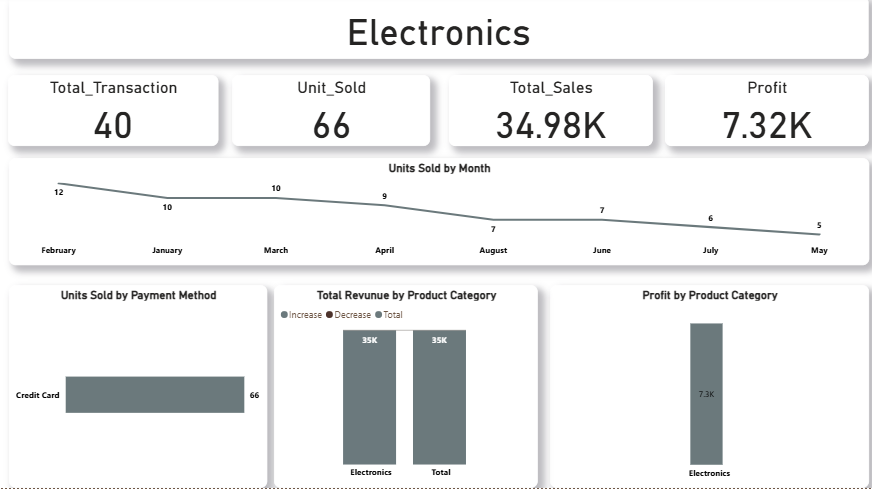

Layout of this report page (visuals, bound fields, positions):
{"tool":"powerbi","page":{"name":"Products Category (Drill Through)","canvas":[1280,720],"ordinal":3},"visuals":[{"type":"group","id":"g1","title":"Group 2","box":[13.4,115.9,1259.8,104.1],"z":0},{"type":"group","id":"g2","title":"Group 1","box":[13.4,115.9,942.4,104.1],"z":0,"group":"g1"},{"type":"card","title":"Unit_Sold","fields":{"Values":["Sum(Online Sales Data.Units Sold)"]},"box":[340.7,115.9,290.4,104.1],"z":0,"group":"g2"},{"type":"card","title":"Total_Transaction","fields":{"Values":["Min(Online Sales Data.Product Category)"]},"box":[15.1,0,1258.2,92.4],"z":1000},{"type":"card","title":"Profit","fields":{"Values":["Sum(Online Sales Data.Profit)"]},"box":[975.5,115.9,297.7,104.1],"z":2000,"group":"g1"},{"type":"lineChart","title":"Units Sold by Month","fields":{"Category":["Online Sales Data.month"],"Y":["Sum(Online Sales Data.Units Sold)"]},"box":[14.6,237.1,1258.5,156.6],"z":2000},{"type":"card","title":"Total_Sales","fields":{"Values":["Sum(Online Sales Data.Total Revenue)"]},"box":[658.1,115.9,297.7,104.1],"z":3000,"group":"g2"},{"type":"barChart","title":"Units Sold by Payment Method","fields":{"Category":["Online Sales Data.Payment Method"],"Y":["Sum(Online Sales Data.Units Sold)"]},"box":[14.6,422.9,377.6,297.1],"z":3000},{"type":"ribbonChart","title":"Profit by Product Category","fields":{"Category":["Online Sales Data.Product Category"],"Y":["Sum(Online Sales Data.Profit)"]},"box":[806.3,422.9,466.8,297.1],"z":4000},{"type":"waterfallChart","title":"Total Revunue by Product Category","fields":{"Category":["Online Sales Data.Product Category"],"Y":["Sum(Online Sales Data.Total Revenue)"]},"box":[402.4,422.9,386.3,297.1],"z":5000},{"type":"card","title":"Total_Transaction","fields":{"Values":["CountNonNull(Online Sales Data.Transaction ID)"]},"box":[13.4,115.9,307.6,104.1],"z":7000,"group":"g2"}]}

Visuals, with their boxes in screenshot pixels (x1, y1, x2, y2), scaled from the page's 1280x720 canvas onto the 872x489 screenshot:
"Group 2" group: 9/79/867/149
"Group 1" group: 9/79/651/149
"Unit_Sold" card: 232/79/430/149
"Total_Transaction" card: 10/0/867/63
"Profit" card: 665/79/867/149
"Units Sold by Month" lineChart: 10/161/867/267
"Total_Sales" card: 448/79/651/149
"Units Sold by Payment Method" barChart: 10/287/267/488
"Profit by Product Category" ribbonChart: 549/287/867/488
"Total Revunue by Product Category" waterfallChart: 274/287/537/488
"Total_Transaction" card: 9/79/219/149
